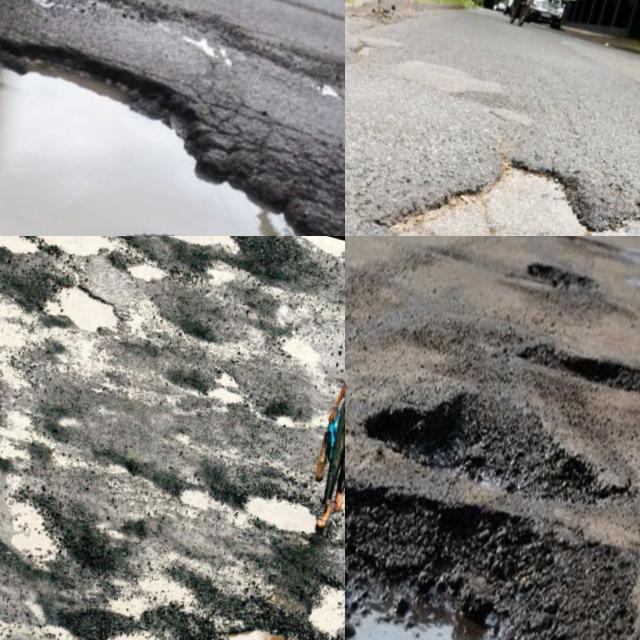Potholes: (0, 0, 345, 236), (345, 323, 640, 567), (345, 408, 640, 640), (345, 91, 640, 236), (141, 314, 311, 467), (0, 426, 142, 595), (4, 247, 152, 393), (503, 297, 640, 454), (84, 548, 239, 640), (128, 236, 298, 311), (502, 240, 614, 328), (224, 569, 345, 640), (0, 236, 148, 285), (543, 236, 639, 290), (0, 389, 20, 622), (0, 260, 23, 357)
